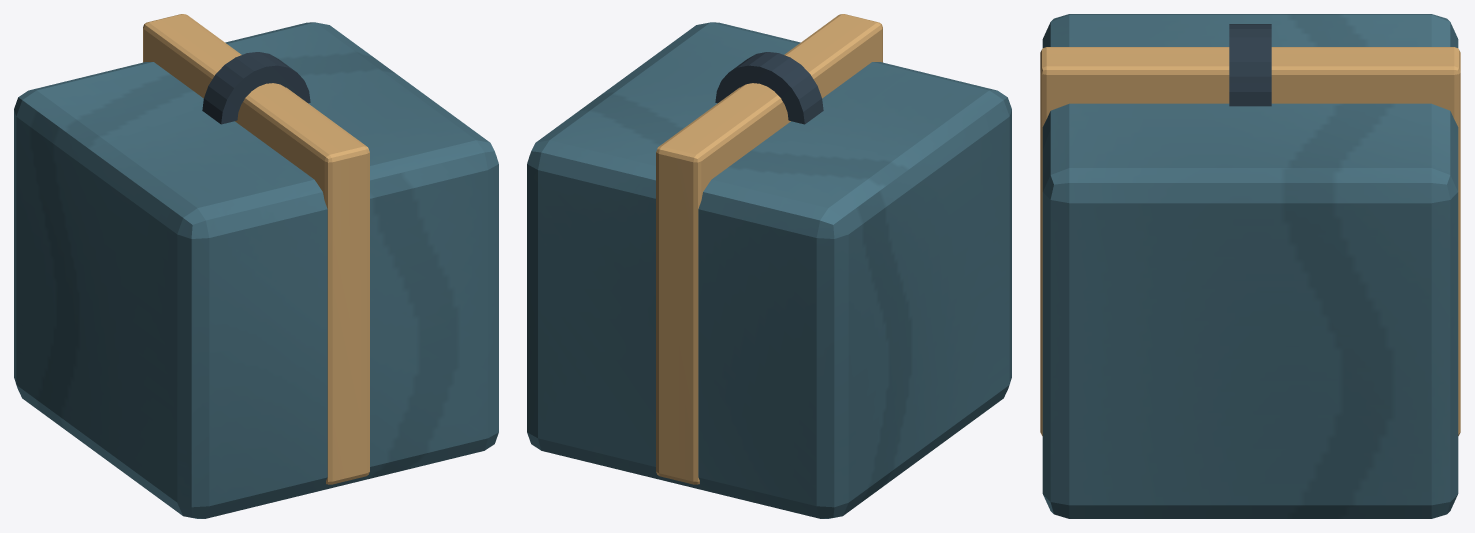
File: ballast.glb
3 renders of one model, left to right at view 1: azimuth 30°, elevation 25°; view 2: azimuth 150°, elevation 25°; view 3: azimuth 270°, elevation 25°, orthographic. The views are drawn at different scales.
Parts seen in each view (by area): view 1: ballast_solid; view 2: ballast_solid; view 3: ballast_solid.
Part boxes in pixels (left/top/right/bottom): ballast_solid: left=14, top=14, right=498, bottom=518; ballast_solid: left=527, top=14, right=1011, bottom=518; ballast_solid: left=1040, top=14, right=1460, bottom=518.
Bounding box in the file's own units: 1.57 × 1.72 × 1.59.
3 materials, 1 textured.
